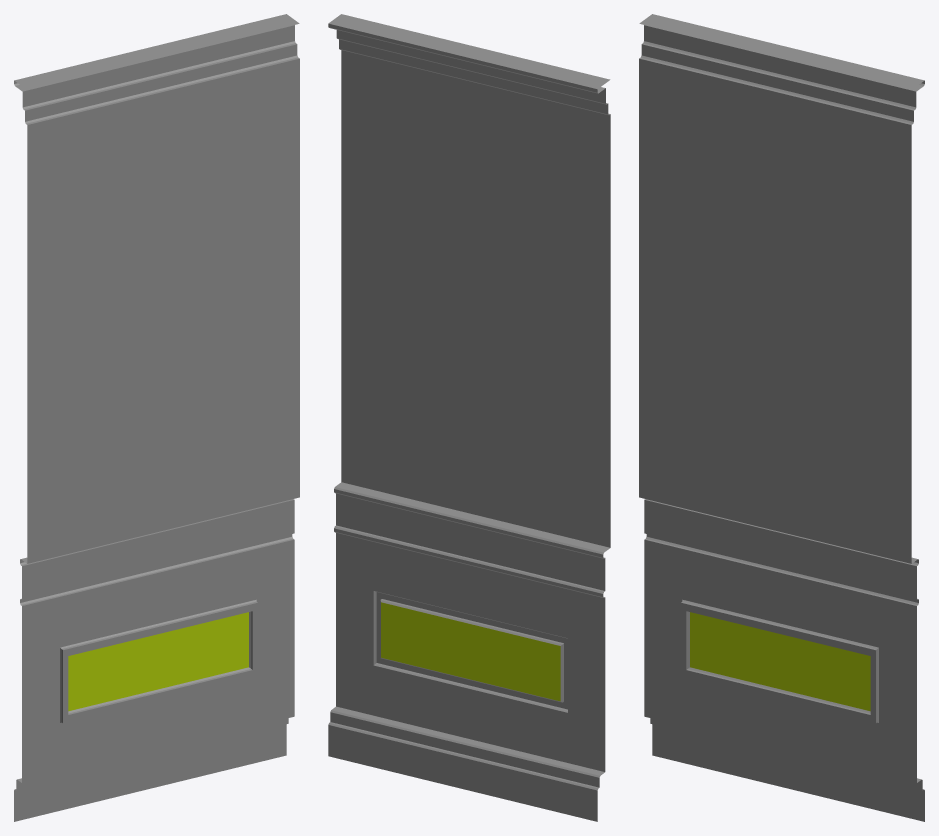
Rendered from Structure_WallBase.FBX.
3 views of the same model, side by side, from view 1: azimuth 30°, elevation 25°; view 2: azimuth 150°, elevation 25°; view 3: azimuth 330°, elevation 25° (orthographic).
Visible parts, largest first — view 1: Structure_WallBase; view 2: Structure_WallBase; view 3: Structure_WallBase.
Boxes of the visible parts, box(x1,y1,x2,y2) form: Structure_WallBase: box(14, 14, 299, 821); Structure_WallBase: box(328, 14, 610, 821); Structure_WallBase: box(639, 14, 924, 821).
Bounding box in the file's own units: 100 × 260 × 8.42.
